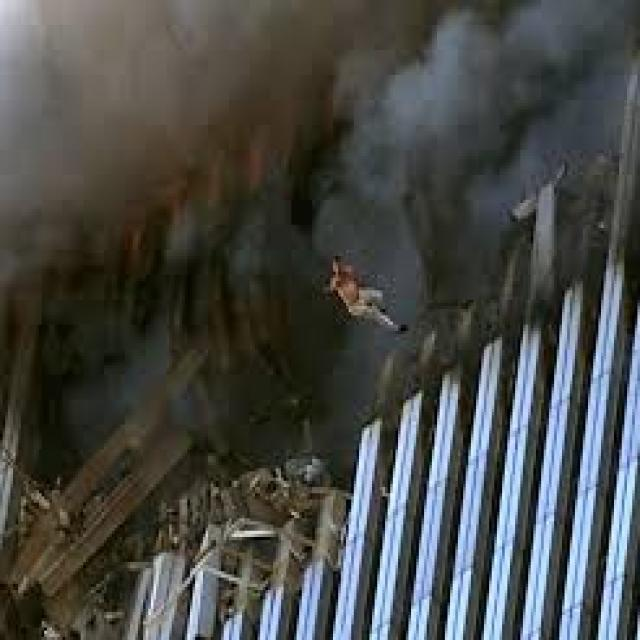Smoke: (2, 3, 214, 219)
